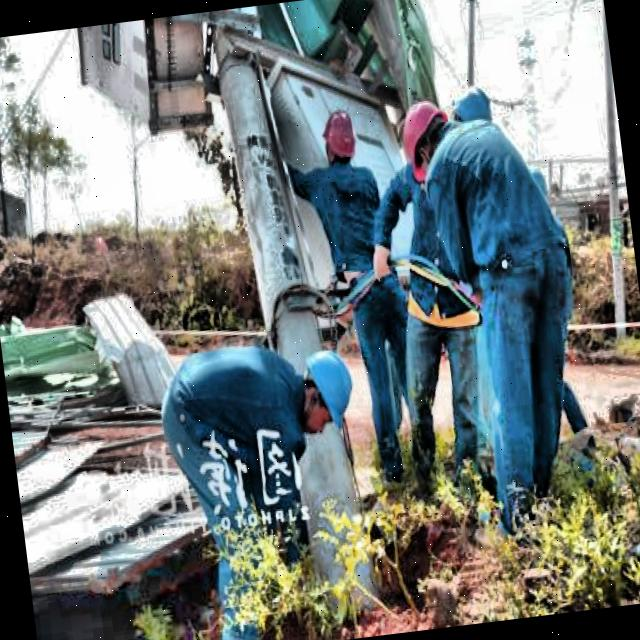helmet: (294, 346, 359, 448), (396, 96, 458, 182), (444, 78, 504, 138), (319, 110, 360, 170)
